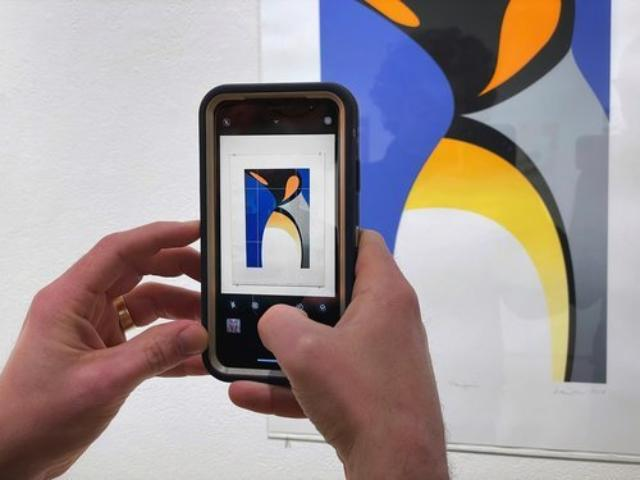art: (269, 0, 635, 456)
phone: (192, 76, 360, 384)
